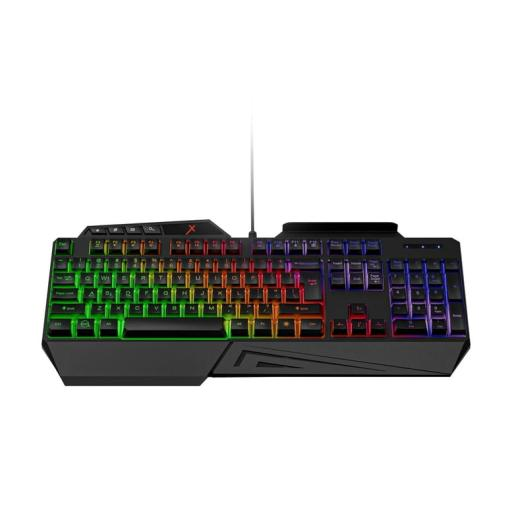KEYBOARD-2: (42, 220, 470, 384)
